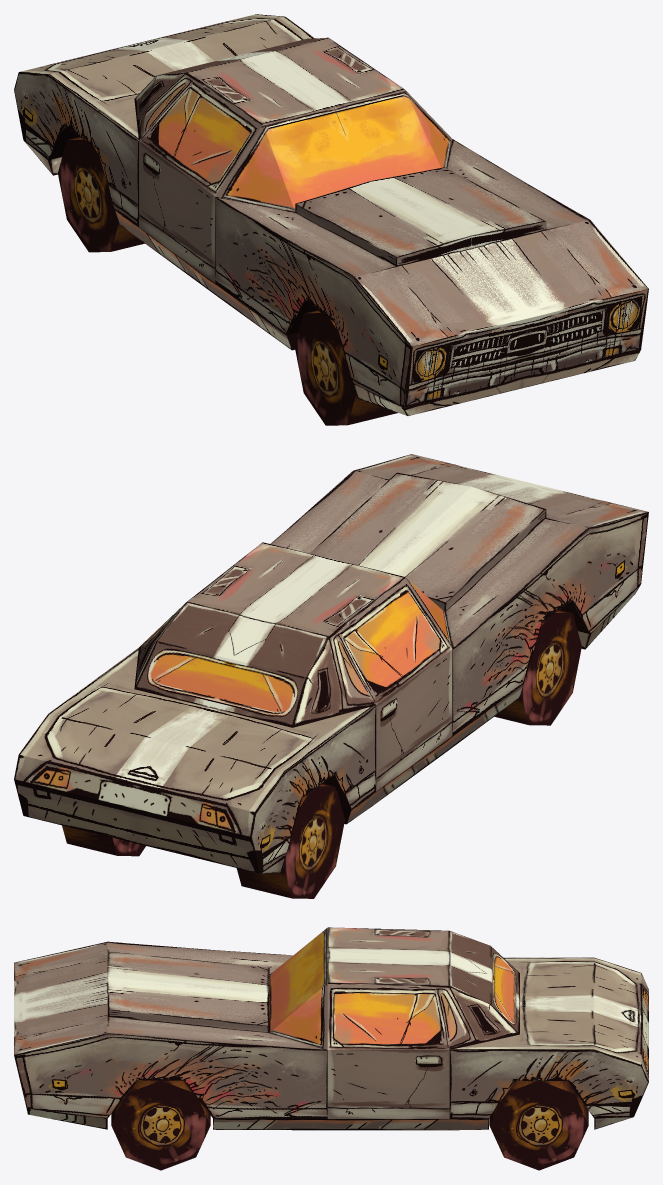
The model's file is car.obj.
The picture shows the model from 3 angles, top to bottom: view 1: azimuth 30°, elevation 25°; view 2: azimuth 150°, elevation 25°; view 3: azimuth 270°, elevation 25°; orthographic projection. The views are drawn at different scales.
Parts seen in each view (by area): view 1: car_shell_Plane, wheel_front_wheel, wheel_back_wheel; view 2: car_shell_Plane, wheel_back_wheel, wheel_front_wheel; view 3: car_shell_Plane, wheel_back_wheel, wheel_front_wheel.
Part boxes in pixels (x1,y1,x2,y2): car_shell_Plane: (14, 14, 648, 415); wheel_front_wheel: (294, 310, 397, 425); wheel_back_wheel: (58, 137, 144, 252); car_shell_Plane: (14, 454, 648, 873); wheel_back_wheel: (62, 783, 344, 898); wheel_front_wheel: (494, 610, 581, 725); car_shell_Plane: (14, 927, 648, 1130); wheel_back_wheel: (489, 1081, 588, 1170); wheel_front_wheel: (111, 1080, 210, 1170).
Size of the model in its own units: 4.08 by 3.54 by 11.86.
2 materials, 2 textured.
